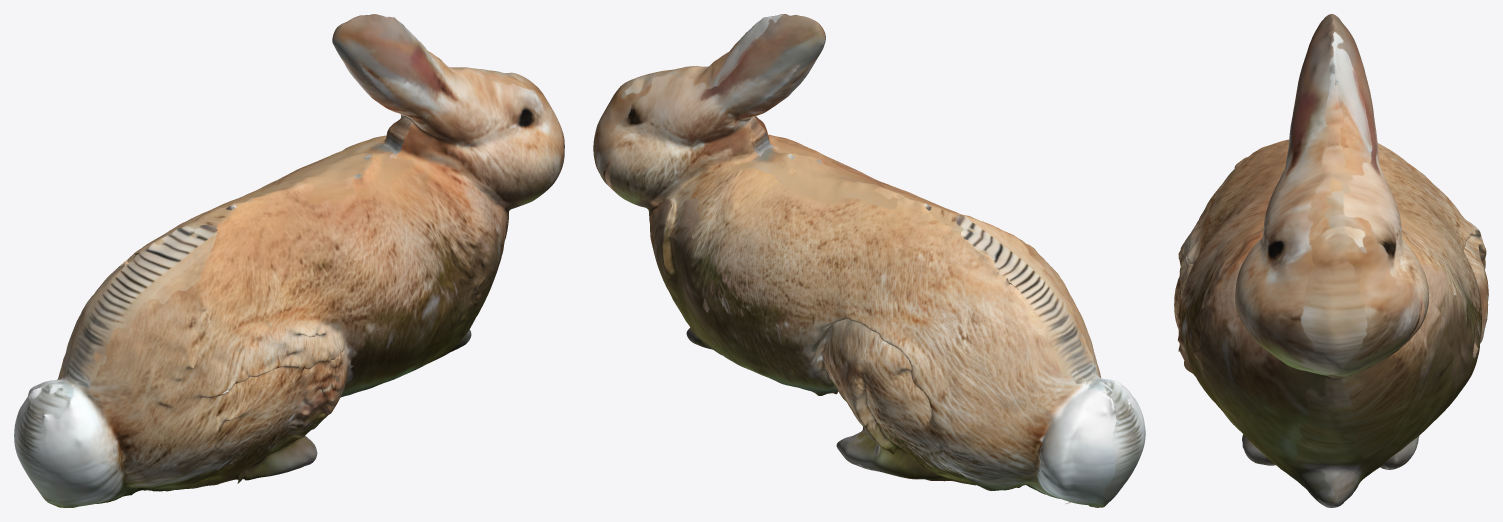
The model's file is joven.glb.
The picture shows the model from 3 angles, left to right: view 1: azimuth 30°, elevation 25°; view 2: azimuth 150°, elevation 25°; view 3: azimuth 270°, elevation 25°; orthographic projection. The views are drawn at different scales.
Visible parts, largest first — view 1: mesh; view 2: mesh; view 3: mesh.
Boxes of the visible parts, x1,y1,x2,y2 form: mesh: [14, 14, 564, 507]; mesh: [593, 14, 1145, 507]; mesh: [1174, 14, 1488, 507].
Bounding box in the file's own units: 1.73 × 1.31 × 0.7281.
Materials: 1 (1 with a texture image).
